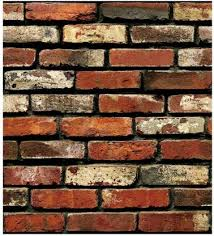brick: (59, 117, 135, 139), (138, 164, 209, 186), (98, 93, 165, 116), (66, 165, 138, 186), (3, 70, 74, 91), (139, 212, 211, 232), (108, 47, 176, 68), (76, 71, 144, 92), (89, 140, 157, 161), (30, 188, 100, 208), (30, 94, 95, 115), (145, 70, 212, 90), (61, 24, 127, 44), (130, 24, 195, 44), (101, 189, 169, 208), (21, 141, 88, 160), (67, 212, 137, 230), (3, 166, 64, 186), (159, 139, 212, 162), (37, 48, 104, 66), (26, 4, 96, 21), (137, 119, 206, 136), (101, 2, 169, 19), (3, 116, 57, 137), (5, 212, 63, 231), (171, 189, 214, 211), (166, 95, 213, 115), (3, 26, 57, 43), (174, 2, 213, 22), (178, 48, 212, 68), (3, 48, 35, 64), (4, 188, 29, 207), (4, 94, 28, 113), (3, 2, 24, 21), (197, 24, 211, 47), (3, 141, 19, 160)
